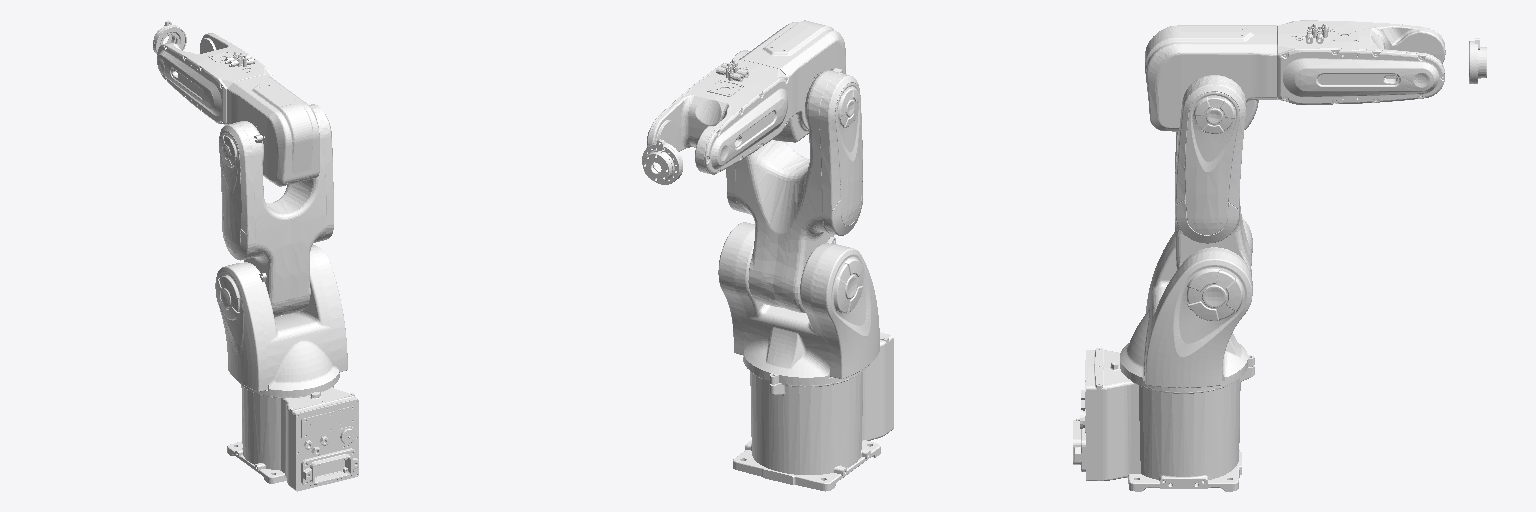
URDF robot description (qj):
<?xml version="1.0" encoding="utf-8"?>
<!-- This URDF was automatically created by SolidWorks to URDF Exporter! Originally created by [author] ([email redacted]) 
     Commit Version: 1.6.0-1-g15f4949  Build Version: 1.6.7594.29634
     For more information, please see http://wiki.ros.org/sw_urdf_exporter -->
<robot
  name="qj">
  <link
    name="base_link">
    <inertial>
      <origin
        xyz="6.64736924327754E-05 -0.0348161919202244 0.100127350786493"
        rpy="0 0 0" />
      <mass
        value="7.83693423586392" />
      <inertia
        ixx="0.0660071690318367"
        ixy="3.6541546431333E-05"
        ixz="1.46410267410148E-05"
        iyy="0.0417391753350889"
        iyz="-0.000958135578445102"
        izz="0.0594259648392284" />
    </inertial>
    <visual>
      <origin
        xyz="0 0 0"
        rpy="0 0 0" />
      <geometry>
        <mesh
          filename="package://qj/meshes/base_link.STL" />
      </geometry>
      <material
        name="">
        <color
          rgba="1 1 1 1" />
      </material>
    </visual>
    <collision>
      <origin
        xyz="0 0 0"
        rpy="0 0 0" />
      <geometry>
        <mesh
          filename="package://qj/meshes/base_link.STL" />
      </geometry>
    </collision>
  </link>
  <link
    name="robot_Link1">
    <inertial>
      <origin
        xyz="-2.37011604839985E-09 0.00548789154085588 5.05780968352318E-13"
        rpy="0 0 0" />
      <mass
        value="0.00405850307768424" />
      <inertia
        ixx="1.31352014578921E-06"
        ixy="2.8457825225517E-13"
        ixz="-1.13973854902485E-11"
        iyy="2.62630942189189E-06"
        iyz="-6.07258843660441E-17"
        izz="1.3134588182111E-06" />
    </inertial>
    <visual>
      <origin
        xyz="0 0 0"
        rpy="0 0 0" />
      <geometry>
        <mesh
          filename="package://qj/meshes/robot_Link1.STL" />
      </geometry>
      <material
        name="">
        <color
          rgba="1 1 1 1" />
      </material>
    </visual>
    <collision>
      <origin
        xyz="0 0 0"
        rpy="0 0 0" />
      <geometry>
        <mesh
          filename="package://qj/meshes/robot_Link1.STL" />
      </geometry>
    </collision>
  </link>
  <joint
    name="robot_joint1"
    type="revolute">
    <origin
      xyz="0 0 0.199"
      rpy="1.5708 0 0" />
    <parent
      link="base_link" />
    <child
      link="robot_Link1" />
    <axis
      xyz="0 1 0" />
    <limit
      lower="-3.14"
      upper="3.14"
      effort="100"
      velocity="1" />
  </joint>
  <link
    name="robot_Link2">
    <inertial>
      <origin
        xyz="-0.00170629239942747 0.179910350771959 0.00880766456089629"
        rpy="0 0 0" />
      <mass
        value="5.81066192757272" />
      <inertia
        ixx="0.0733489264664369"
        ixy="-0.000561202825999126"
        ixz="-7.72245347362286E-05"
        iyy="0.0336909428046885"
        iyz="0.00101563632489222"
        izz="0.0951863397521705" />
    </inertial>
    <visual>
      <origin
        xyz="0 0 0"
        rpy="0 0 0" />
      <geometry>
        <mesh
          filename="package://qj/meshes/robot_Link2.STL" />
      </geometry>
      <material
        name="">
        <color
          rgba="1 1 1 1" />
      </material>
    </visual>
    <collision>
      <origin
        xyz="0 0 0"
        rpy="0 0 0" />
      <geometry>
        <mesh
          filename="package://qj/meshes/robot_Link2.STL" />
      </geometry>
    </collision>
  </link>
  <joint
    name="robot_joint2"
    type="fixed">
    <origin
      xyz="0 0.18 -0.0525"
      rpy="0 0 0" />
    <parent
      link="robot_Link1" />
    <child
      link="robot_Link2" />
    <axis
      xyz="0 0 0" />
    <limit
      lower="-3.14"
      upper="3.14"
      effort="100"
      velocity="1" />
  </joint>
  <link
    name="robot_Link3">
    <inertial>
      <origin
        xyz="-0.000712318989699316 0.0232252507934252 0.00713513827517523"
        rpy="0 0 0" />
      <mass
        value="3.35157581426237" />
      <inertia
        ixx="0.0192805813699751"
        ixy="-5.49269078695565E-05"
        ixz="-1.87699283404937E-05"
        iyy="0.015129033942"
        iyz="0.00134081400802687"
        izz="0.00970487336657894" />
    </inertial>
    <visual>
      <origin
        xyz="0 0 0"
        rpy="0 0 0" />
      <geometry>
        <mesh
          filename="package://qj/meshes/robot_Link3.STL" />
      </geometry>
      <material
        name="">
        <color
          rgba="1 1 1 1" />
      </material>
    </visual>
    <collision>
      <origin
        xyz="0 0 0"
        rpy="0 0 0" />
      <geometry>
        <mesh
          filename="package://qj/meshes/robot_Link3.STL" />
      </geometry>
    </collision>
  </link>
  <joint
    name="robot_joint3"
    type="fixed">
    <origin
      xyz="0 0.34 0"
      rpy="0 0 0" />
    <parent
      link="robot_Link2" />
    <child
      link="robot_Link3" />
    <axis
      xyz="0 0 0" />
    <limit
      lower="-3.14"
      upper="3.14"
      effort="100"
      velocity="1" />
  </joint>
  <link
    name="robot_Link4">
    <inertial>
      <origin
        xyz="-0.000959020315072412 0.00021285685512662 -0.11094694234401"
        rpy="0 0 0" />
      <mass
        value="2.43906675107709" />
      <inertia
        ixx="0.0131245363082067"
        ixy="-9.88453780163395E-06"
        ixz="-0.000292815164876273"
        iyy="0.0145713201530293"
        iyz="-1.86209809132749E-05"
        izz="0.00571468904589574" />
    </inertial>
    <visual>
      <origin
        xyz="0 0 0"
        rpy="0 0 0" />
      <geometry>
        <mesh
          filename="package://qj/meshes/robot_Link4.STL" />
      </geometry>
      <material
        name="">
        <color
          rgba="1 1 1 1" />
      </material>
    </visual>
    <collision>
      <origin
        xyz="0 0 0"
        rpy="0 0 0" />
      <geometry>
        <mesh
          filename="package://qj/meshes/robot_Link4.STL" />
      </geometry>
    </collision>
  </link>
  <joint
    name="robot_joint4"
    type="fixed">
    <origin
      xyz="0 0.047 -0.108"
      rpy="0 0 0" />
    <parent
      link="robot_Link3" />
    <child
      link="robot_Link4" />
    <axis
      xyz="0 0 0" />
    <limit
      lower="-3.14"
      upper="3.14"
      effort="100"
      velocity="1" />
  </joint>
  <link
    name="robot_Link5">
    <inertial>
      <origin
        xyz="-0.0658860431022918 0.0488951461483525 -0.0548861496464178"
        rpy="0 0 0" />
      <mass
        value="0.469916921543025" />
      <inertia
        ixx="0.00065664630227944"
        ixy="-2.09449792539438E-06"
        ixz="8.59995667638702E-07"
        iyy="0.000451259237878058"
        iyz="1.35203948143446E-06"
        izz="0.000651353379666762" />
    </inertial>
    <visual>
      <origin
        xyz="0 0 0"
        rpy="0 0 0" />
      <geometry>
        <mesh
          filename="package://qj/meshes/robot_Link5.STL" />
      </geometry>
      <material
        name="">
        <color
          rgba="1 1 1 1" />
      </material>
    </visual>
    <collision>
      <origin
        xyz="0 0 0"
        rpy="0 0 0" />
      <geometry>
        <mesh
          filename="package://qj/meshes/robot_Link5.STL" />
      </geometry>
    </collision>
  </link>
  <joint
    name="robot_joint5"
    type="fixed">
    <origin
      xyz="-0.065885 0.054878 -0.332"
      rpy="1.5708 0 3.1416" />
    <parent
      link="robot_Link4" />
    <child
      link="robot_Link5" />
    <axis
      xyz="0 0 0" />
    <limit
      lower="-3.14"
      upper="3.14"
      effort="100"
      velocity="1" />
  </joint>
  <link
    name="robot_Link6">
    <inertial>
      <origin
        xyz="2.15415157178333E-09 -0.0957156938530383 0.000675361584537959"
        rpy="0 0 0" />
      <mass
        value="0.0568716556943406" />
      <inertia
        ixx="2.6514448133587E-05"
        ixy="-7.23982633991358E-13"
        ixz="-4.636191644917E-08"
        iyy="4.4639813093132E-05"
        iyz="2.92097209564768E-08"
        izz="2.5137738404192E-05" />
    </inertial>
    <visual>
      <origin
        xyz="0 0 0"
        rpy="0 0 0" />
      <geometry>
        <mesh
          filename="package://qj/meshes/robot_Link6.STL" />
      </geometry>
      <material
        name="">
        <color
          rgba="1 1 1 1" />
      </material>
    </visual>
    <collision>
      <origin
        xyz="0 0 0"
        rpy="0 0 0" />
      <geometry>
        <mesh
          filename="package://qj/meshes/robot_Link6.STL" />
      </geometry>
    </collision>
  </link>
  <joint
    name="robot_joint6"
    type="revolute">
    <origin
      xyz="-0.065885 0.085 -0.054878"
      rpy="0 0 0" />
    <parent
      link="robot_Link5" />
    <child
      link="robot_Link6" />
    <axis
      xyz="0 1 0" />
    <limit
      lower="-3.14"
      upper="3.14"
      effort="0"
      velocity="0" />
  </joint>
</robot>

--- Render facts (derived) ---
The picture shows the robot from 3 angles, left to right: view 1: azimuth 30°, elevation 25°; view 2: azimuth 150°, elevation 25°; view 3: azimuth 270°, elevation 25°; orthographic projection.
Robot: qj — 7 links, 6 joints (2 revolute, 4 fixed); root link base_link; default pose: all joints at 0.
Links seen in each view (by area): view 1: robot_Link2, robot_Link1, base_link, robot_Link3, robot_Link4, robot_Link6; view 2: robot_Link2, robot_Link1, base_link, robot_Link4, robot_Link3, robot_Link6; view 3: base_link, robot_Link1, robot_Link4, robot_Link2, robot_Link3, robot_Link6.
Link boxes in pixels (<box>): robot_Link2: <box>219,104,333,317</box>; robot_Link1: <box>215,245,347,396</box>; base_link: <box>227,385,358,491</box>; robot_Link3: <box>227,75,319,186</box>; robot_Link4: <box>157,33,272,124</box>; robot_Link6: <box>153,20,186,53</box>; robot_Link2: <box>726,50,862,312</box>; robot_Link1: <box>718,222,879,385</box>; base_link: <box>733,332,893,491</box>; robot_Link4: <box>647,60,788,174</box>; robot_Link3: <box>739,20,845,142</box>; robot_Link6: <box>642,139,682,184</box>; base_link: <box>1073,348,1254,491</box>; robot_Link1: <box>1120,217,1254,391</box>; robot_Link4: <box>1277,20,1445,104</box>; robot_Link2: <box>1175,75,1251,276</box>; robot_Link3: <box>1145,25,1276,131</box>; robot_Link6: <box>1469,38,1486,83</box>.
Bounding box of the posed robot: 0.2418 × 0.7091 × 0.844 m (x, y, z).
Meshes: 7 distinct files referenced, 6 mesh visuals loaded (6 binary STL); not drawn: 1 (reference not matched to a file when rendering).